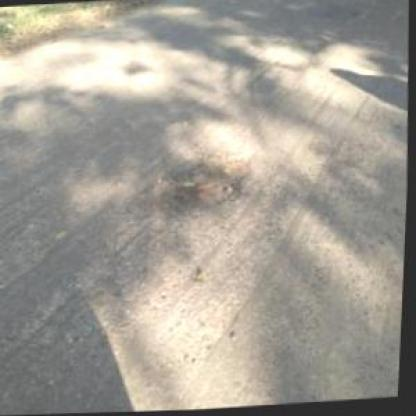pothole: (122, 151, 258, 228)
